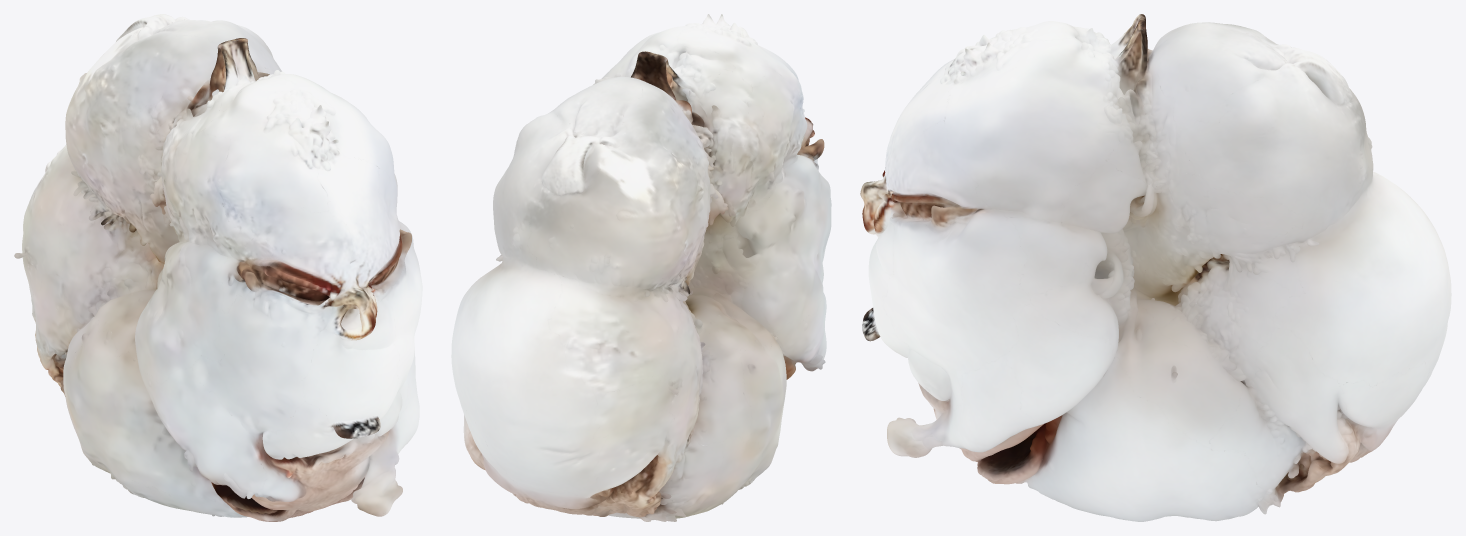
Rendered from base_basic_shaded.fbx.
3 renders of one model, left to right at view 1: azimuth 30°, elevation 25°; view 2: azimuth 150°, elevation 25°; view 3: azimuth 270°, elevation 25°, orthographic. The views are drawn at different scales.
Visible parts, largest first — view 1: model; view 2: model; view 3: model.
Part boxes in pixels (left/top/right/bottom): model: left=14, top=14, right=422, bottom=521; model: left=451, top=14, right=831, bottom=521; model: left=860, top=14, right=1451, bottom=521.
Size of the model in its own units: 109 by 164 by 190.
